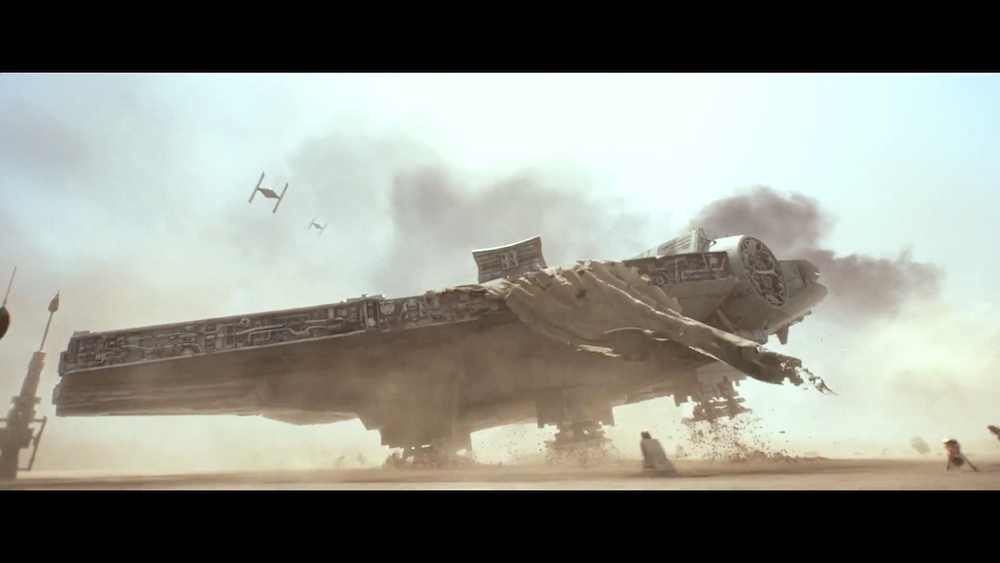Millennium Falcon: (58, 231, 828, 440)
Tie Fighter: (250, 173, 289, 214), (308, 218, 328, 236)
